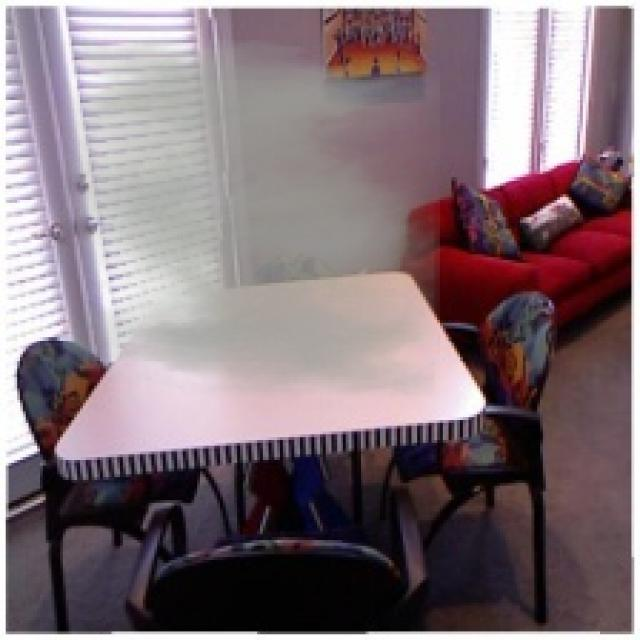smoke: (63, 40, 440, 397)
